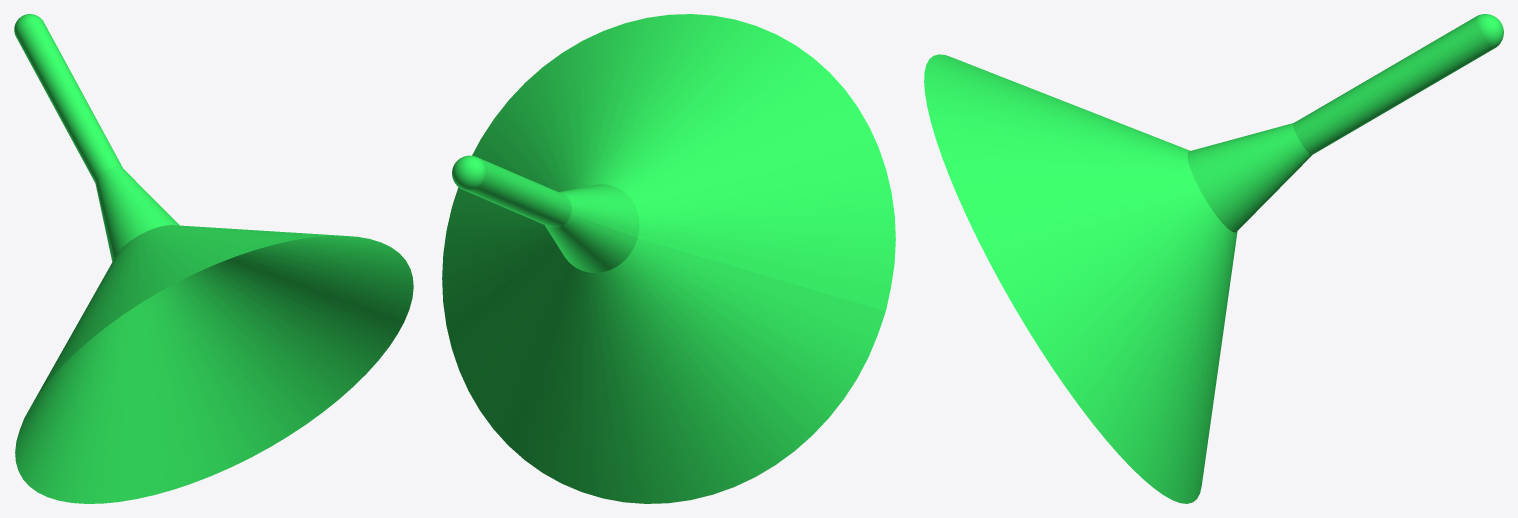
Rendered from VirtualFixture.obj.
The picture shows the model from 3 angles, left to right: view 1: azimuth 30°, elevation 25°; view 2: azimuth 150°, elevation 25°; view 3: azimuth 270°, elevation 25°; orthographic projection. The views are drawn at different scales.
Parts seen in each view (by area): view 1: VirtualFixture; view 2: VirtualFixture; view 3: VirtualFixture.
Part boxes in pixels (x1,y1,x2,y2): VirtualFixture: [14, 14, 413, 503]; VirtualFixture: [442, 14, 895, 503]; VirtualFixture: [924, 14, 1503, 503].
Size of the model in its own units: 0.1033 by 0.1012 by 0.116.
